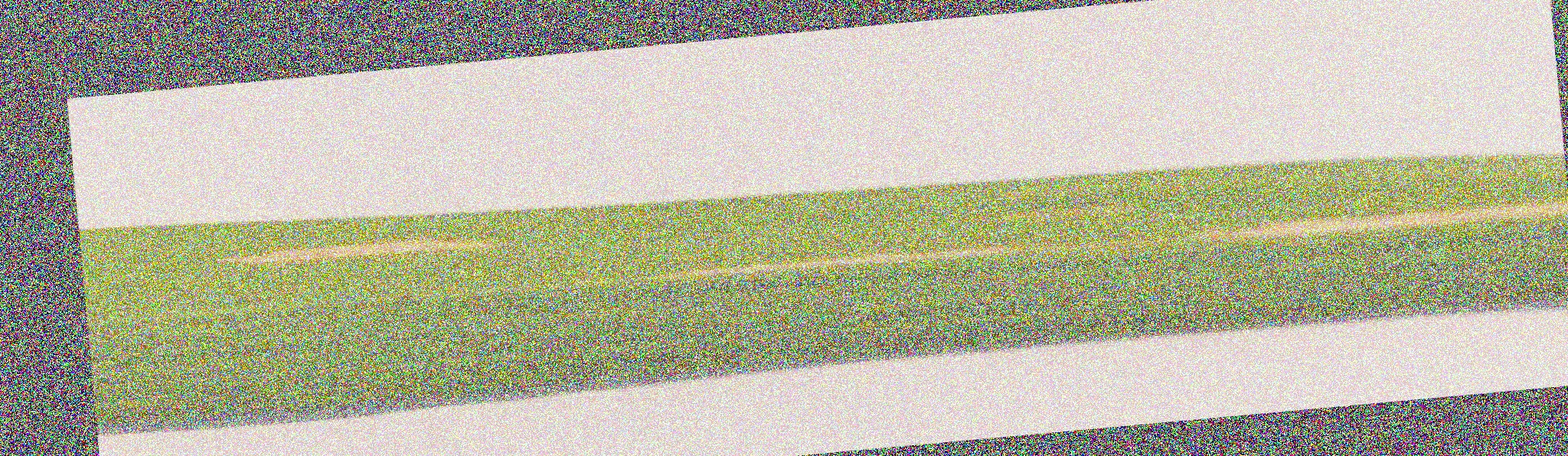Leaf_Blast: (590, 224, 1568, 258), (171, 228, 515, 286)
